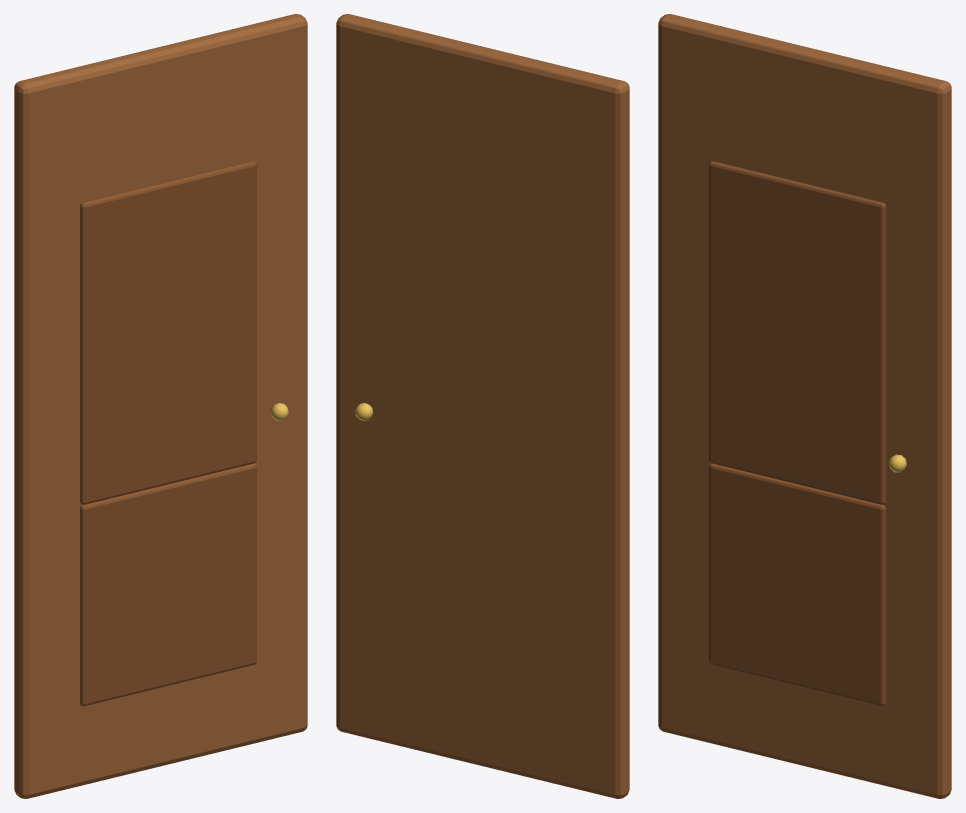
File: house_door.glb
The picture shows the model from 3 angles, left to right: view 1: azimuth 30°, elevation 25°; view 2: azimuth 150°, elevation 25°; view 3: azimuth 330°, elevation 25°; orthographic projection.
Parts seen in each view (by area): view 1: leaf, panel-top, panel-bottom; view 2: leaf; view 3: leaf, panel-top, panel-bottom.
Part boxes in pixels (x1=…): leaf: x1=14, y1=14, x2=307, y2=798; panel-top: x1=80, y1=161, x2=256, y2=504; panel-bottom: x1=80, y1=463, x2=256, y2=706; leaf: x1=336, y1=14, x2=629, y2=798; leaf: x1=658, y1=14, x2=951, y2=798; panel-top: x1=709, y1=161, x2=885, y2=504; panel-bottom: x1=709, y1=463, x2=885, y2=706.
Bounding box in the file's own units: 0.9 × 2.13 × 0.19.
